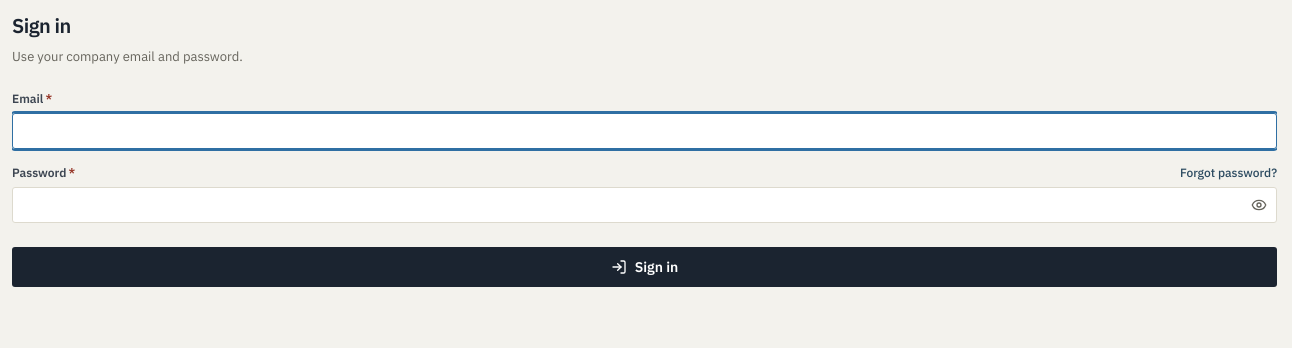
Test case: LoginForm › shows field errors instead of submitting an empty form
Click the button "Sign in" at (644, 267), box [12,247,1277,287]
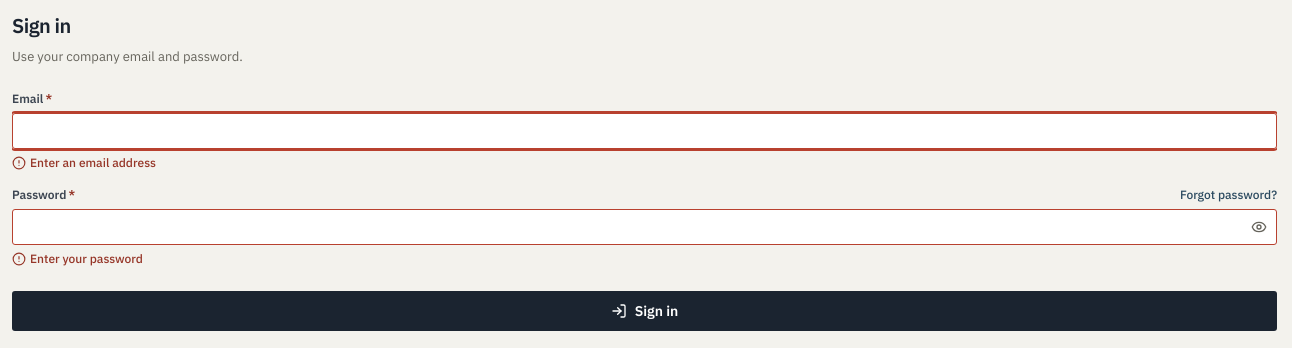
Result: the text "Enter an email address" is shown at [30,155,156,171]
Result: the text "Enter your password" is shown at [30,251,143,267]
